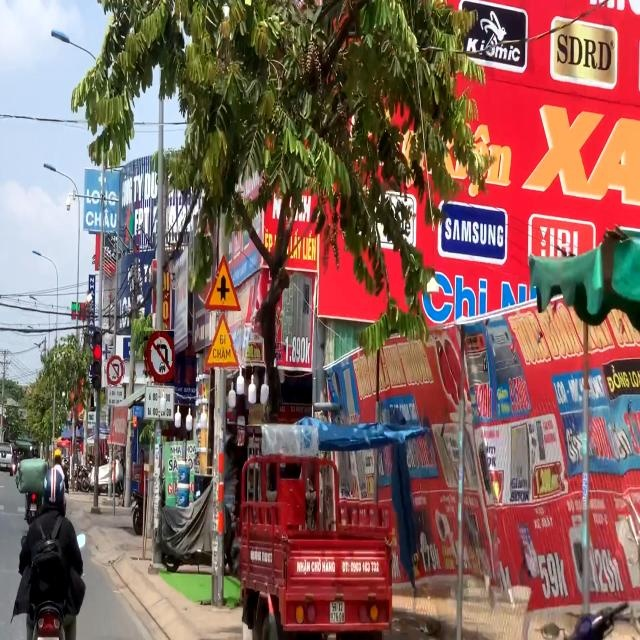bien_cam: (204, 254, 242, 311), (205, 312, 241, 370), (144, 331, 174, 383), (107, 355, 125, 385)
